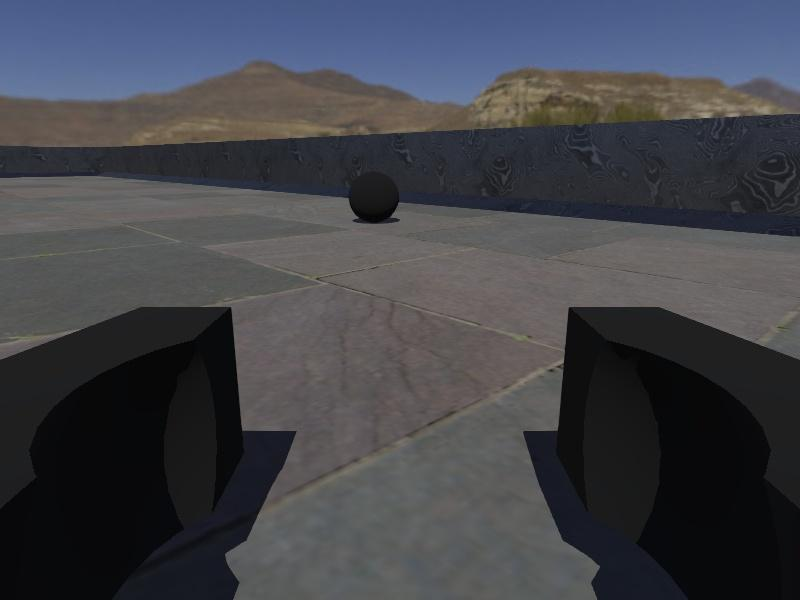black ball: (348, 170, 400, 224)
